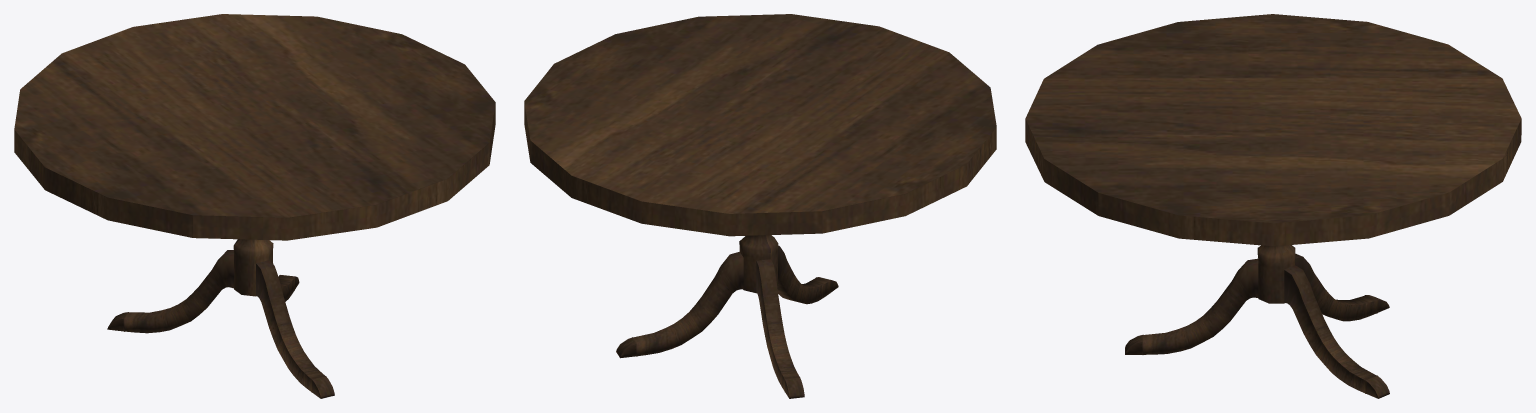
The model's file is table.gltf.
The picture shows the model from 3 angles, left to right: view 1: azimuth 30°, elevation 25°; view 2: azimuth 150°, elevation 25°; view 3: azimuth 270°, elevation 25°; orthographic projection. The views are drawn at different scales.
Parts seen in each view (by area): view 1: Table_LP; view 2: Table_LP; view 3: Table_LP.
Boxes of the visible parts, <box> form: Table_LP: <box>14,14,495,398</box>; Table_LP: <box>524,14,996,398</box>; Table_LP: <box>1025,14,1521,398</box>.
Bounding box in the file's own units: 2.01 × 1.04 × 2.01.
1 material, 1 textured.
